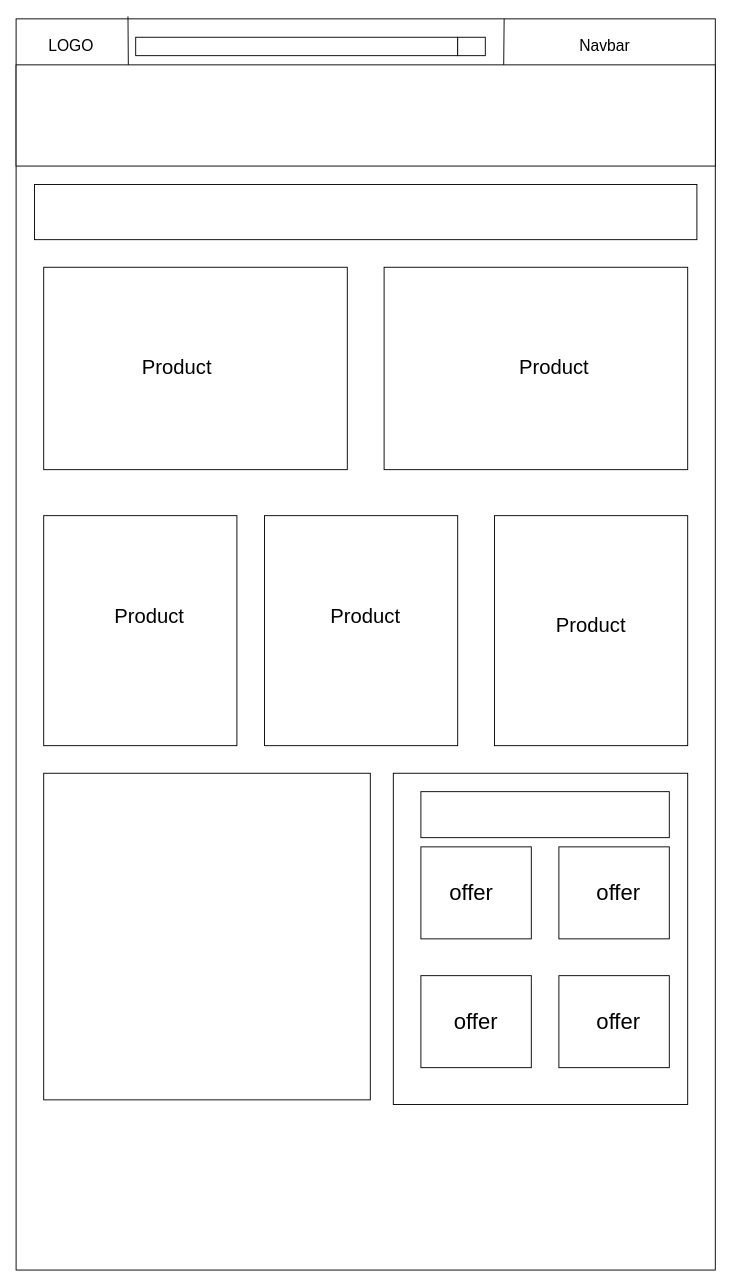
Image size: 731x1286. Some labels were removed from this diagram. Each missing label, with the centre of its shape:
Amazon pay: [365,212]
input: [296,46]
Offer Section: [544,814]
Slider: [365,115]
Video: [206,936]
